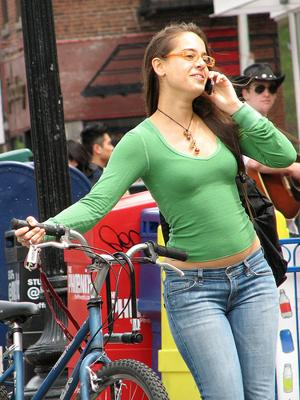person: (14, 23, 298, 400)
